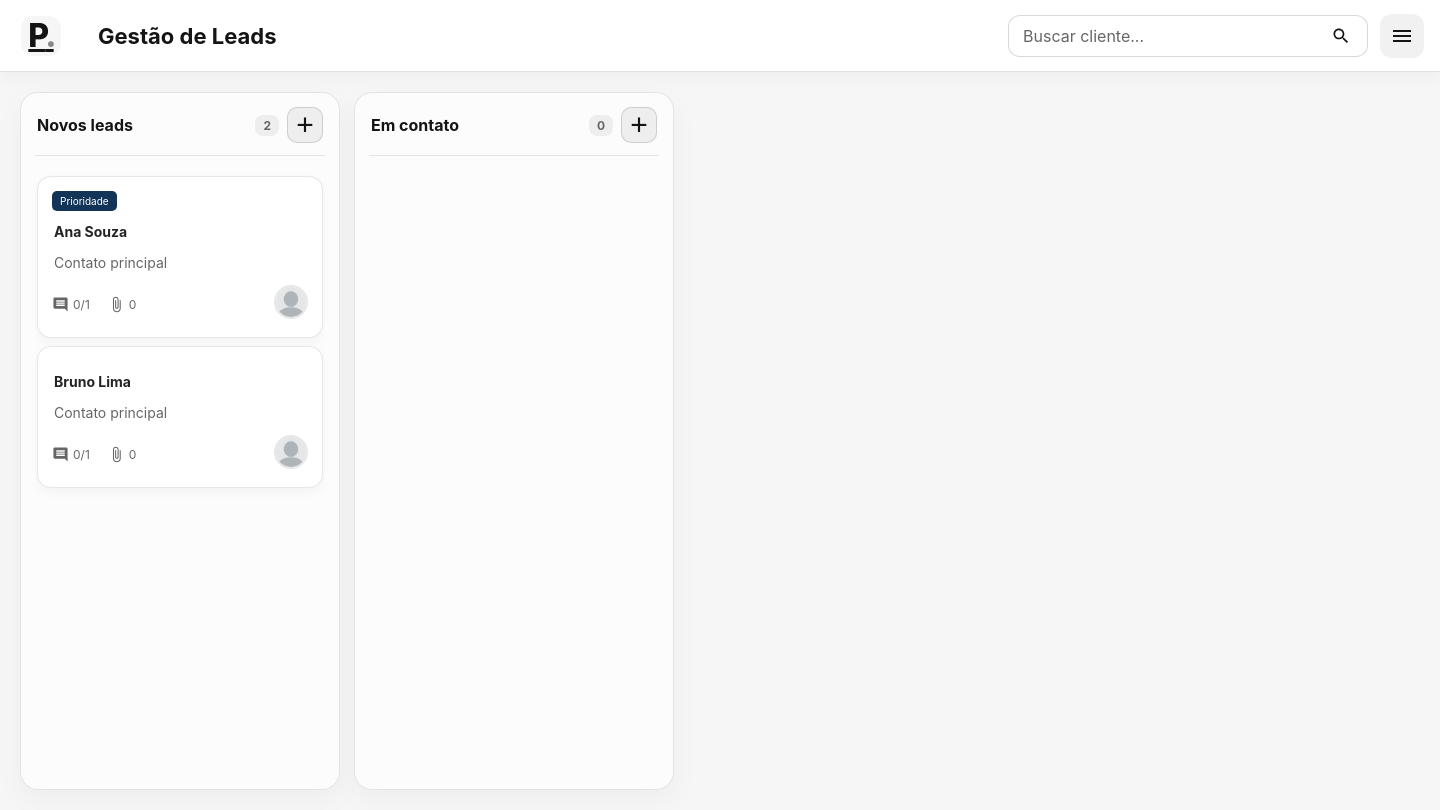
aplica o tema claro aos modais do menu direito
The width and height of the screenshot is (1440, 810).
Earlier steps of the test are not shown.
Expected: the heading "Minhas Atividades" is not shown
Click the button named "Opções do CRM": (1402, 36) 1380,14 -> 1424,58
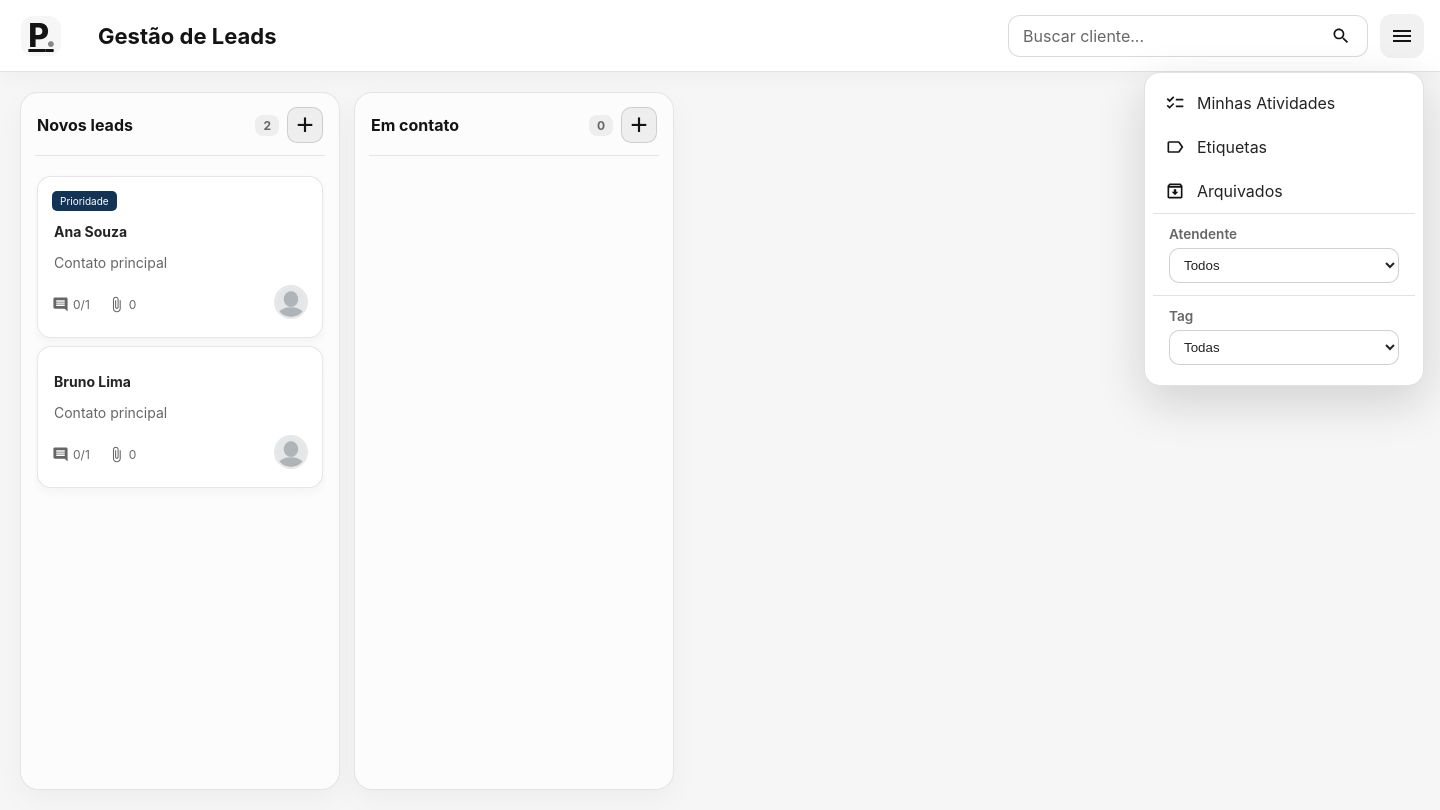
Click the button "Etiquetas": (1232, 146) 1153,124 -> 1415,168
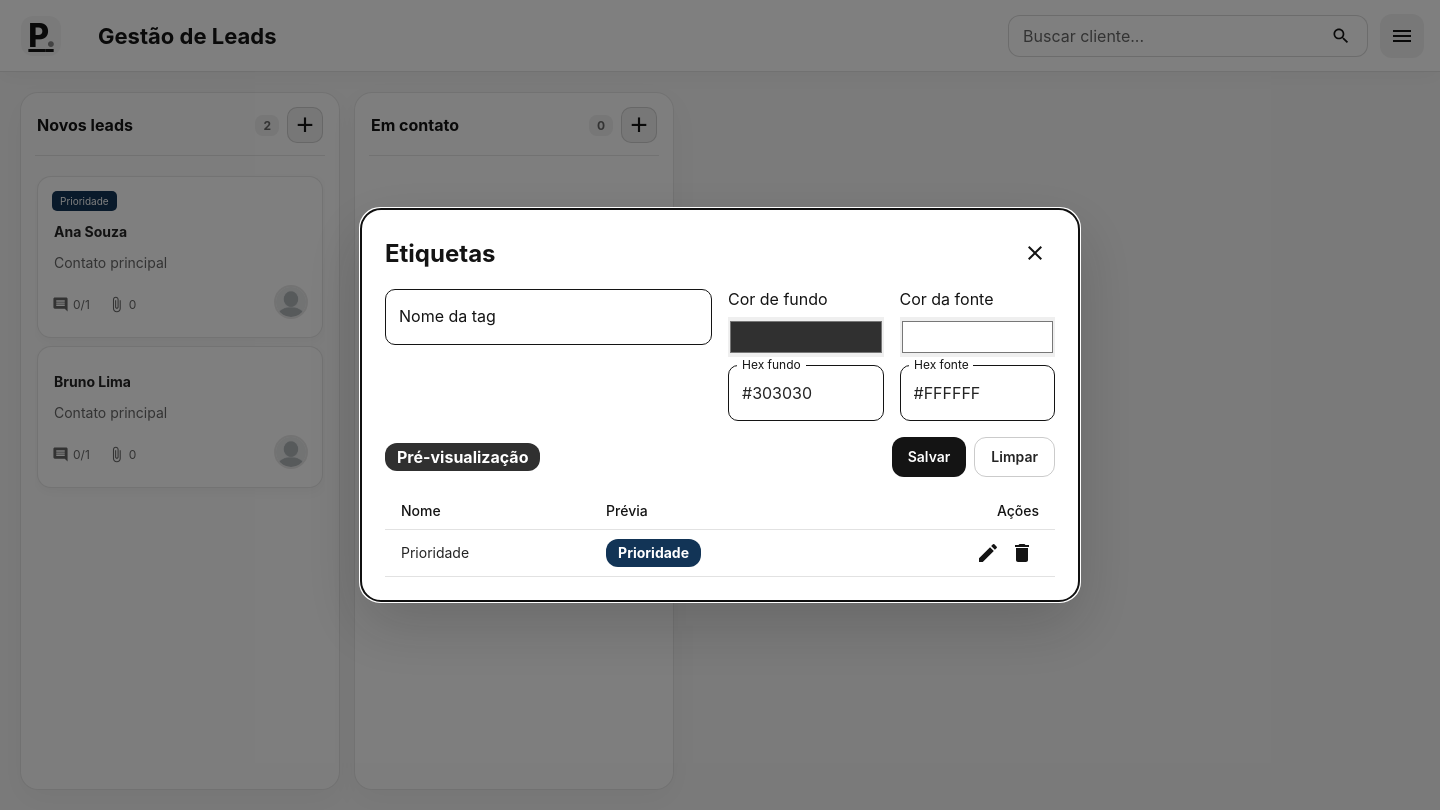
Click the button named "Fechar etiquetas": (1035, 253) 1015,233 -> 1055,273
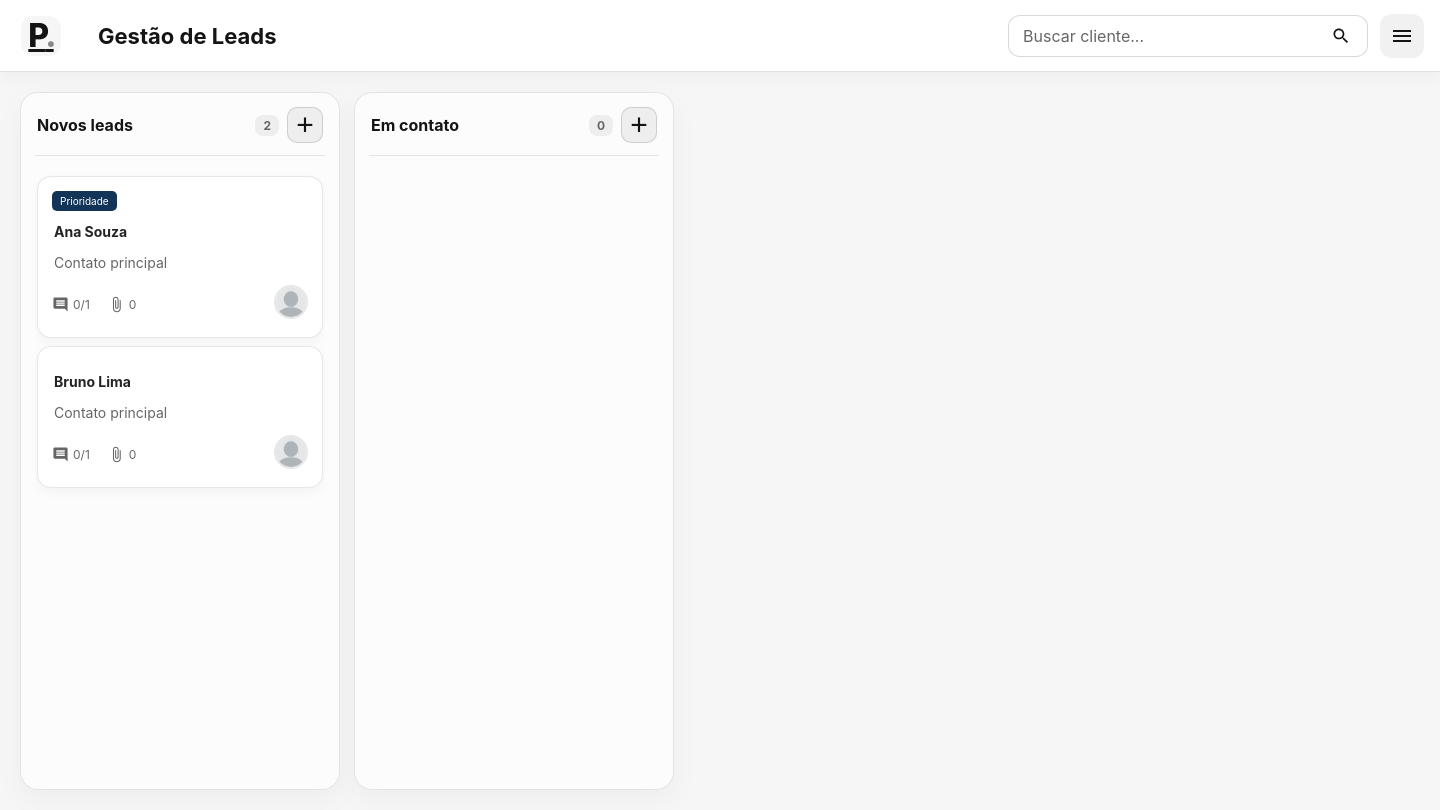
Expected: the heading "Etiquetas" is gone
Click the button named "Opções do CRM": (1402, 36) 1380,14 -> 1424,58
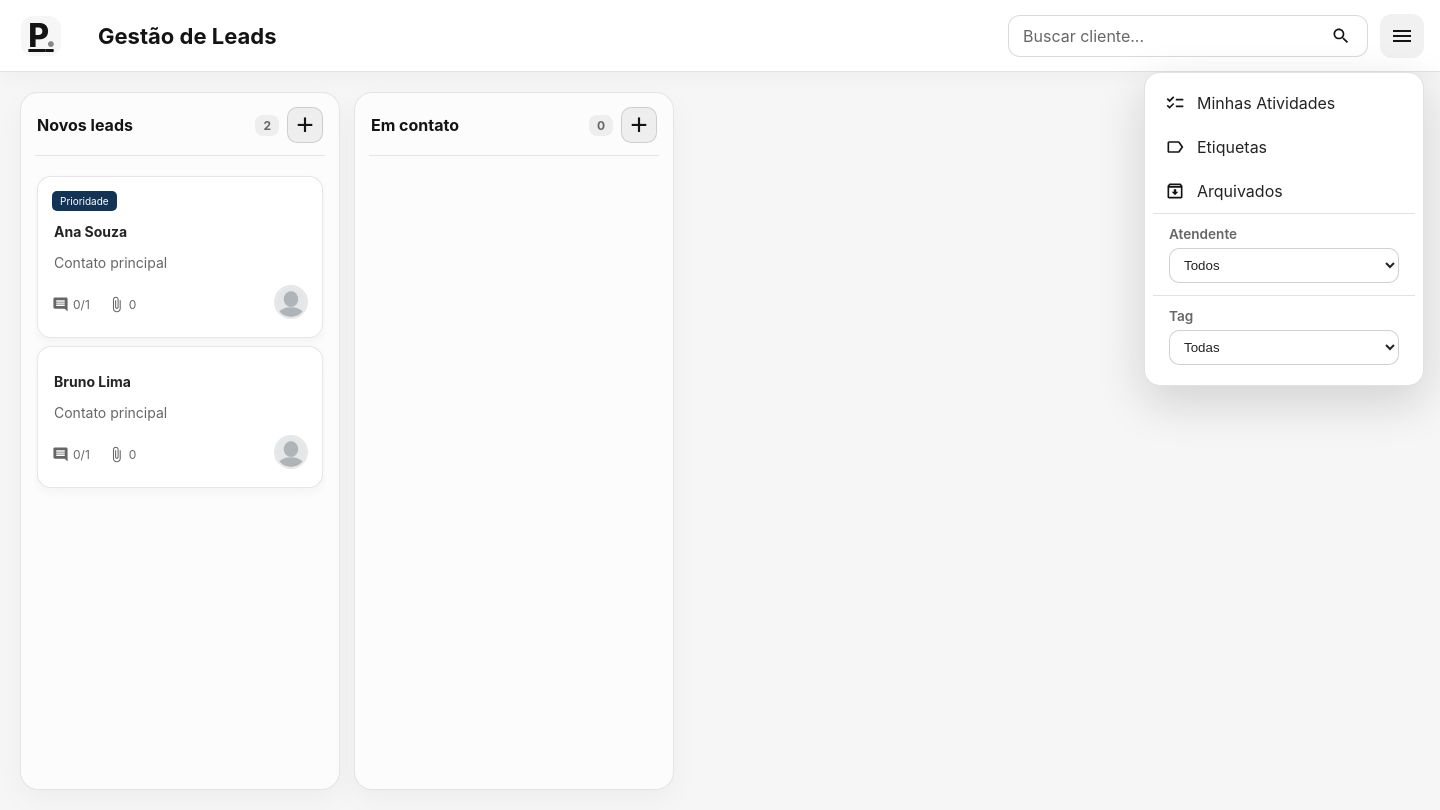
Click the button "Arquivados": (1284, 190) 1153,168 -> 1415,212
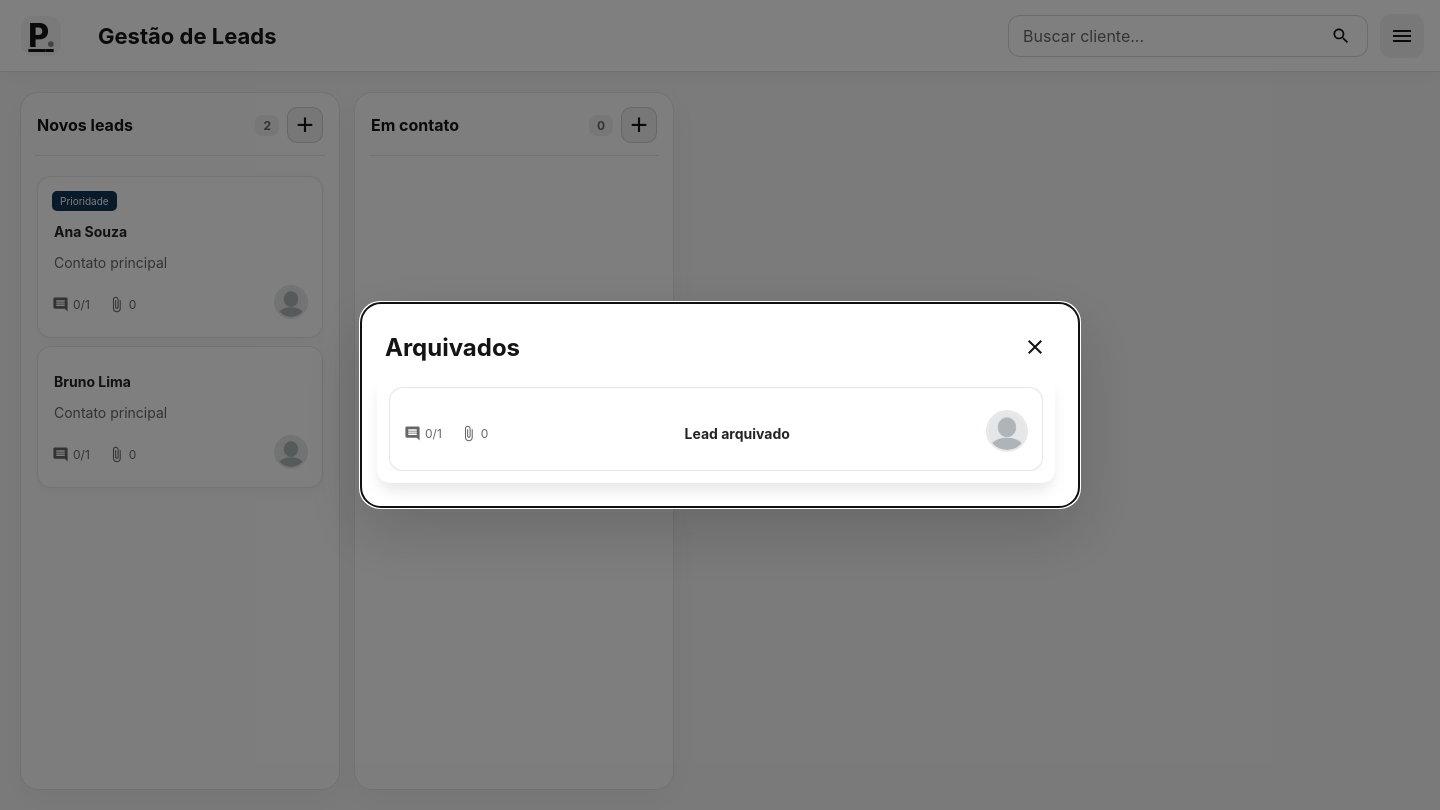
Click the button named "Fechar arquivados": (1035, 347) 1015,327 -> 1055,367
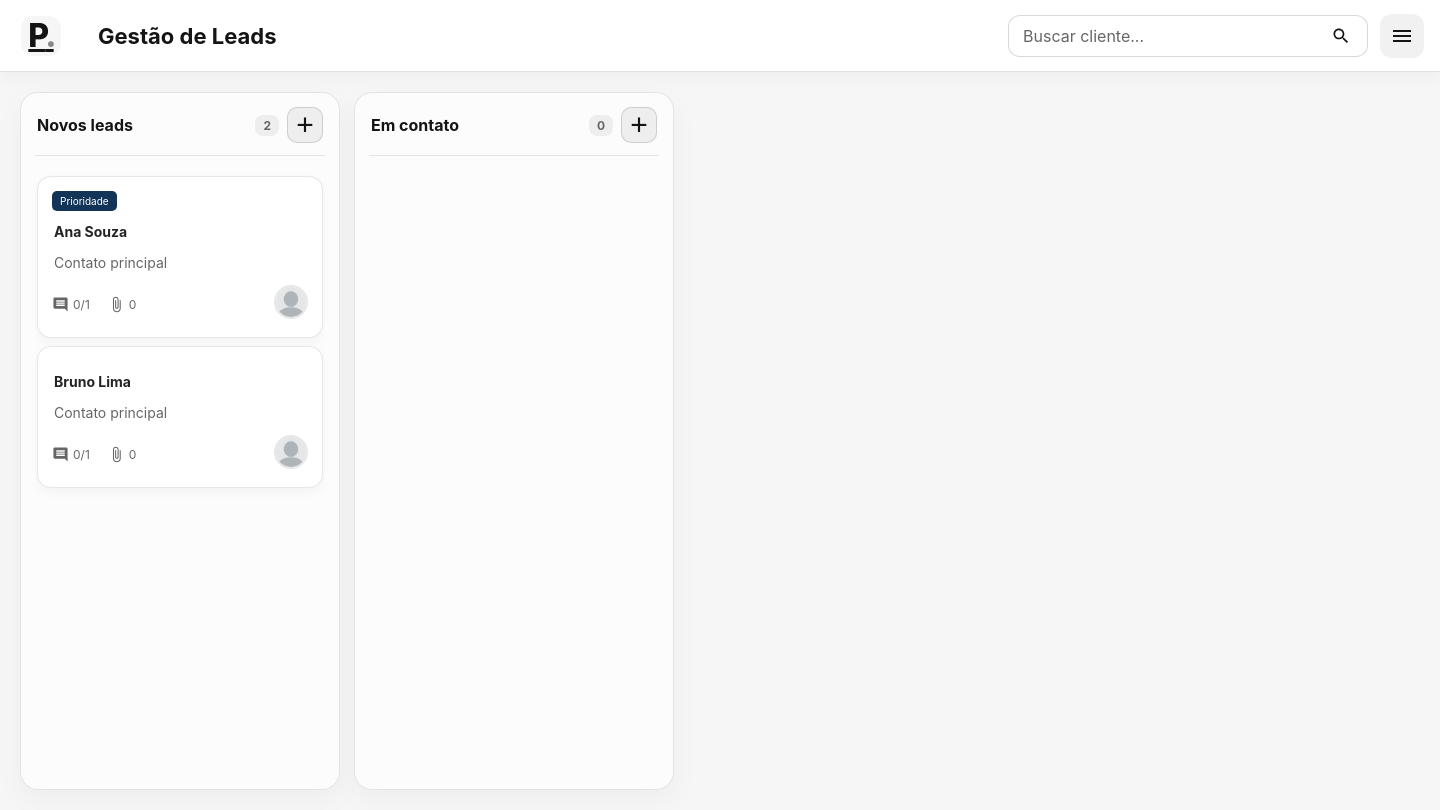
Expected: the heading "Arquivados" is gone
